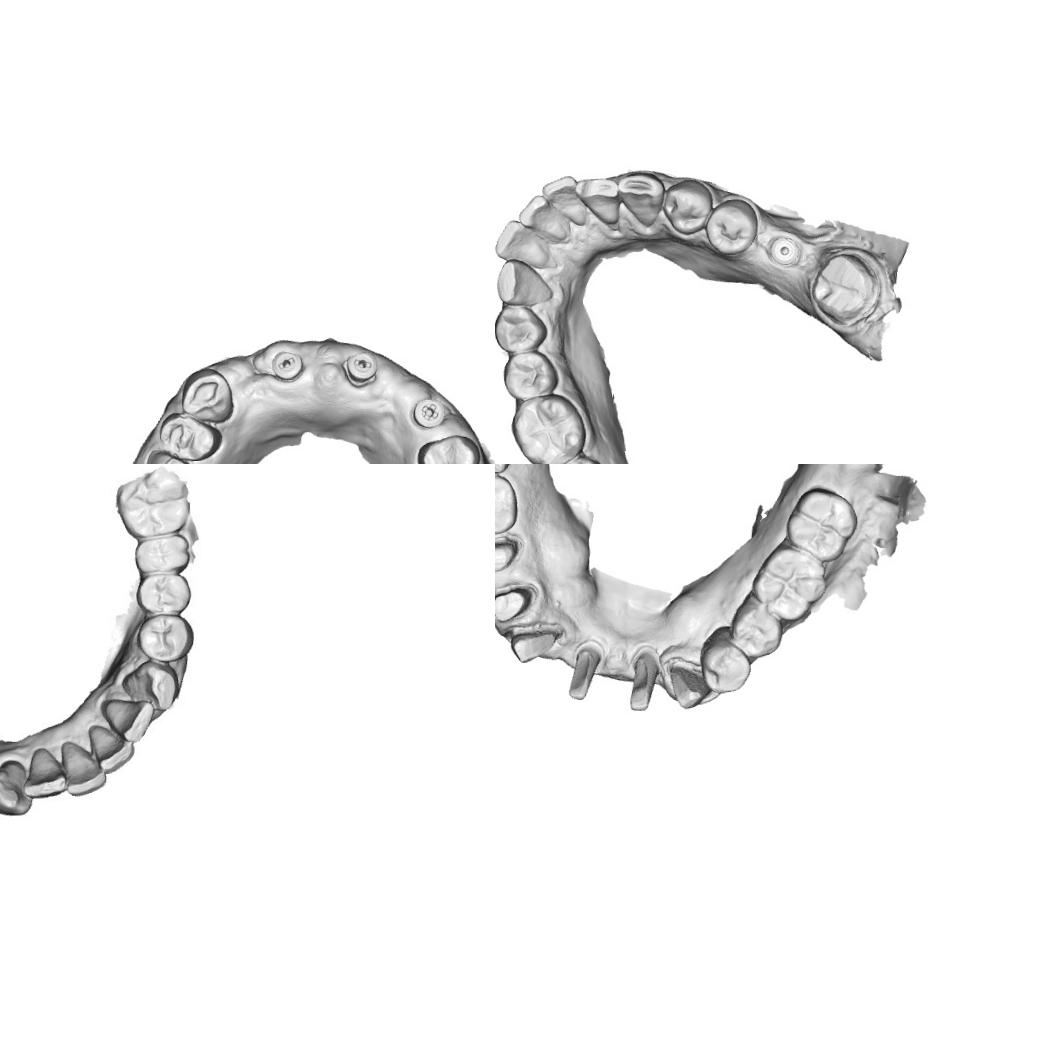canine: (177, 364, 236, 426), (614, 169, 666, 229), (495, 256, 554, 307), (124, 663, 178, 712), (0, 759, 33, 820)
crown: (806, 248, 882, 329), (563, 640, 606, 702), (662, 656, 710, 710), (625, 648, 662, 712), (506, 625, 566, 664), (495, 580, 539, 626), (495, 535, 522, 574)
implant: (768, 234, 800, 267)
implant_minus: (341, 348, 379, 390), (268, 348, 305, 382)
implant_plus: (408, 396, 447, 430)
incisor: (495, 216, 550, 272), (59, 740, 109, 797), (539, 173, 588, 228), (87, 722, 138, 774), (516, 192, 568, 242), (572, 174, 620, 228), (20, 747, 68, 798), (103, 698, 153, 741)
molar: (750, 543, 830, 622), (782, 484, 860, 565), (508, 392, 588, 464), (121, 471, 187, 534), (495, 471, 519, 539)
premolar: (156, 408, 224, 464), (698, 627, 752, 694), (702, 196, 760, 257), (730, 599, 785, 660), (660, 176, 715, 236), (500, 348, 560, 401), (495, 302, 548, 354), (138, 574, 190, 618), (414, 431, 483, 464), (142, 614, 191, 660), (136, 531, 188, 574), (144, 447, 202, 464)
